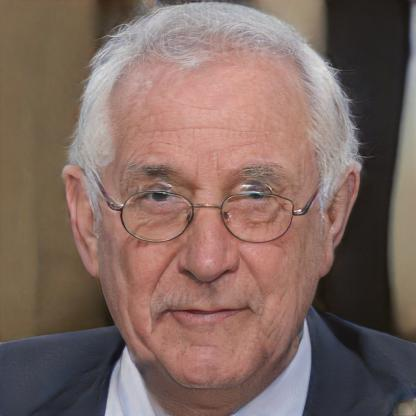glasses: (101, 183, 323, 245)
